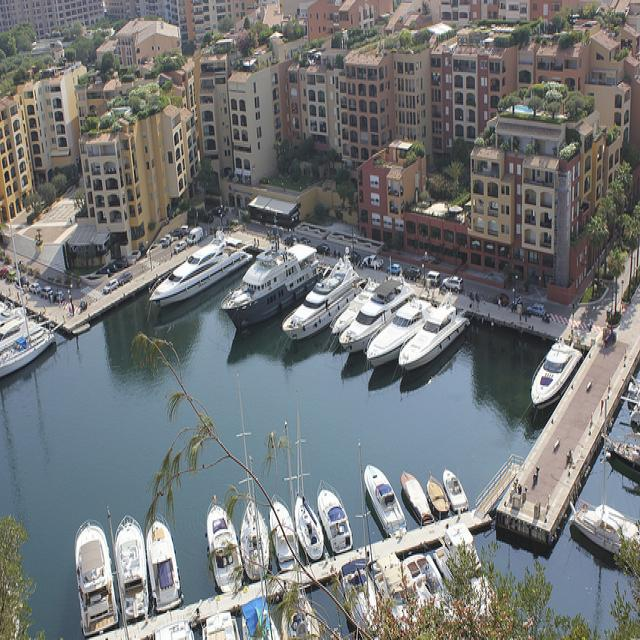Vehicle: (1, 212, 438, 304), (441, 275, 464, 293), (186, 226, 204, 245), (420, 270, 441, 286), (527, 302, 547, 318), (117, 270, 133, 286), (103, 278, 118, 294), (493, 293, 509, 307), (39, 285, 53, 300), (173, 241, 187, 254), (387, 263, 402, 275), (316, 243, 330, 255), (173, 227, 184, 240), (29, 283, 41, 293)
